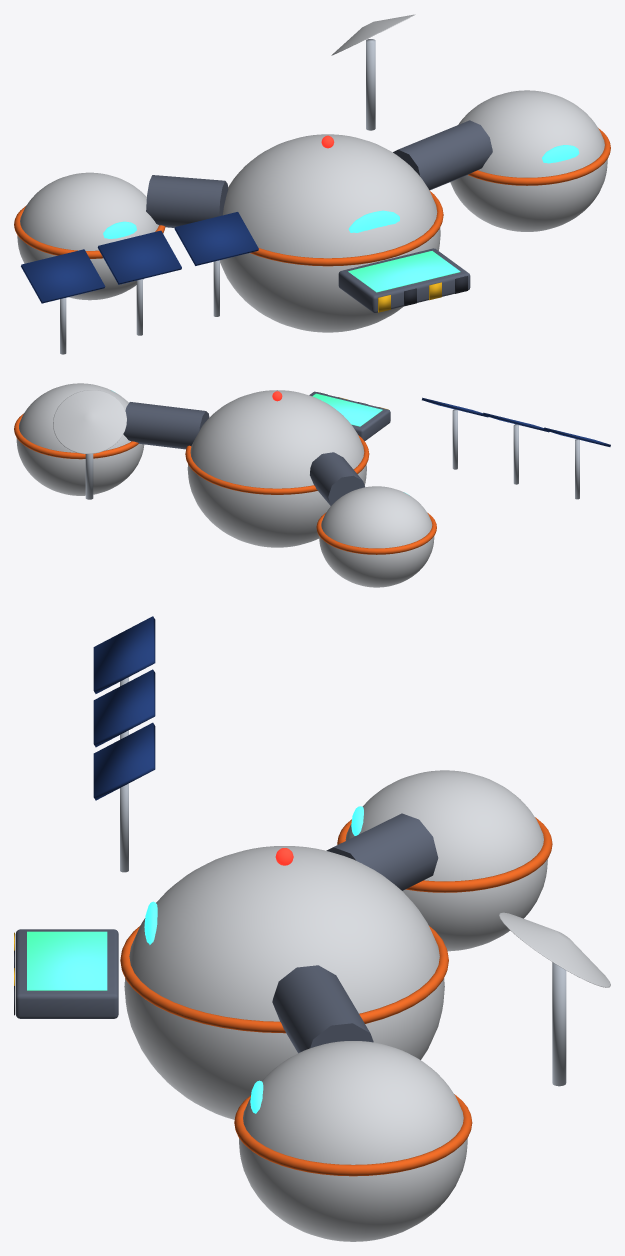
Rendered from Moon_Base.glb.
3 renders of one model, top to bottom at view 1: azimuth 30°, elevation 25°; view 2: azimuth 150°, elevation 25°; view 3: azimuth 270°, elevation 25°, orthographic. The views are drawn at different scales.
Parts seen in each view (by area): view 1: Moon_Base.Dome0, Moon_Base.Dome1, Moon_Base.Dome2, Moon_Base.Tunnel, Moon_Base.Tunnel.001, Moon_Base.Solar1, Moon_Base.Solar0, Moon_Base.Solar2, Moon_Base.DockGlow, Moon_Base.Dock, Moon_Base.DomeBand0, Moon_Base.DomeBand1 (+5 smaller); view 2: Moon_Base.Dome0, Moon_Base.Dome2, Moon_Base.Dome1, Moon_Base.Dish, Moon_Base.Tunnel, Moon_Base.Tunnel.001, Moon_Base.DomeBand0, Moon_Base.DomeBand2, Moon_Base.DomeBand1, Moon_Base.DockGlow, Moon_Base.Dock, Moon_Base.DishPole (+3 smaller); view 3: Moon_Base.Dome0, Moon_Base.Dome1, Moon_Base.Dome2, Moon_Base.Tunnel, Moon_Base.DockGlow, Moon_Base.Tunnel.001, Moon_Base.Dock, Moon_Base.DomeBand0, Moon_Base.DomeBand1, Moon_Base.Solar0, Moon_Base.Solar2, Moon_Base.Solar1 (+3 smaller).
Part boxes in pixels (x1,y1,x2,y2): Moon_Base.Dome0: (220, 134, 440, 332); Moon_Base.Dome1: (450, 90, 607, 231); Moon_Base.Dome2: (17, 172, 158, 300); Moon_Base.Tunnel: (393, 120, 492, 190); Moon_Base.Tunnel.001: (146, 175, 228, 227); Moon_Base.Solar1: (97, 230, 181, 284); Moon_Base.Solar0: (21, 249, 105, 303); Moon_Base.Solar2: (174, 212, 258, 265); Moon_Base.DockGlow: (348, 251, 460, 292); Moon_Base.Dock: (338, 248, 470, 312); Moon_Base.DomeBand0: (250, 190, 443, 266); Moon_Base.DomeBand1: (468, 128, 610, 185); Moon_Base.Dome0: (187, 390, 366, 547); Moon_Base.Dome2: (319, 486, 434, 587); Moon_Base.Dome1: (16, 383, 144, 495); Moon_Base.Dish: (53, 390, 126, 453); Moon_Base.Tunnel: (123, 402, 209, 449); Moon_Base.Tunnel.001: (310, 452, 364, 505); Moon_Base.DomeBand0: (185, 435, 369, 494); Moon_Base.DomeBand2: (316, 512, 436, 554); Moon_Base.DomeBand1: (14, 413, 138, 459); Moon_Base.DockGlow: (312, 393, 382, 426); Moon_Base.Dock: (309, 391, 390, 441); Moon_Base.DishPole: (85, 454, 93, 499); Moon_Base.Dome0: (124, 846, 444, 1119); Moon_Base.Dome1: (239, 1041, 467, 1241); Moon_Base.Dome2: (345, 770, 547, 951); Moon_Base.Tunnel: (272, 965, 373, 1053); Moon_Base.DockGlow: (27, 931, 107, 990); Moon_Base.Tunnel.001: (326, 813, 438, 890); Moon_Base.Dock: (15, 929, 118, 1018); Moon_Base.DomeBand0: (120, 925, 448, 1033); Moon_Base.DomeBand1: (234, 1094, 472, 1176); Moon_Base.Solar0: (93, 616, 155, 693); Moon_Base.Solar2: (93, 722, 155, 800); Moon_Base.Solar1: (93, 669, 155, 747).
Size of the model in its own units: 9.29 by 2.82 by 5.22.
